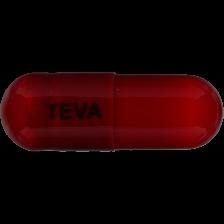0093-5507: (0, 0, 224, 224)
